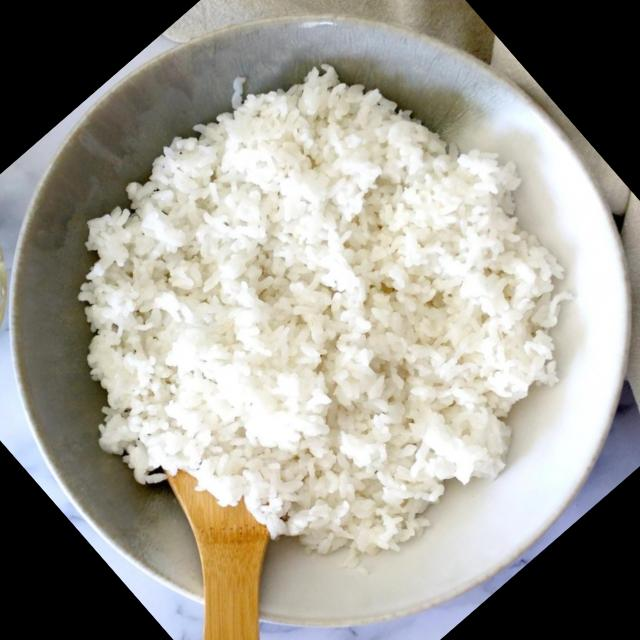rice: (80, 68, 566, 552)
